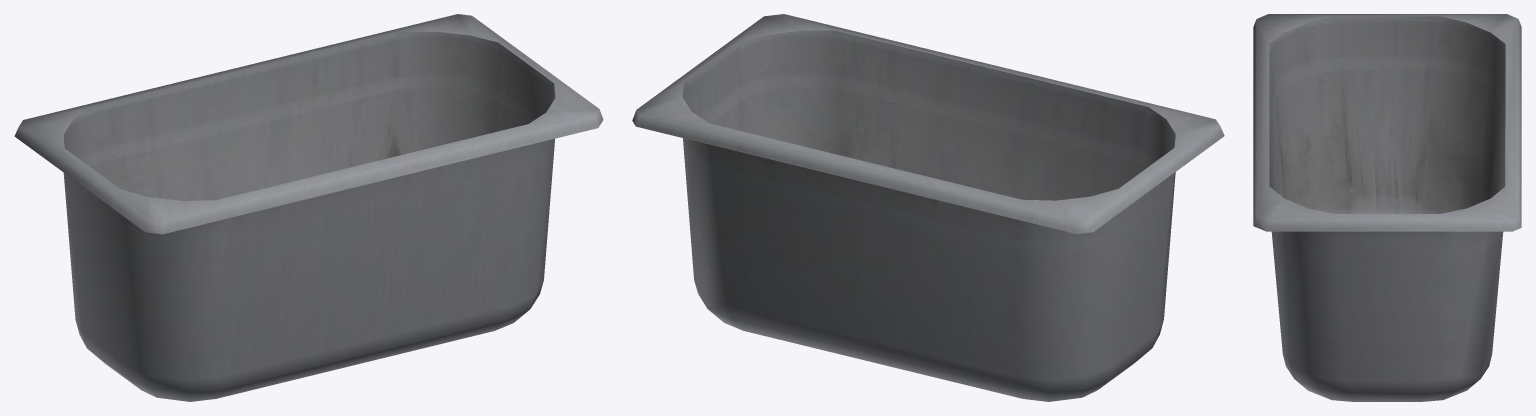
The model's file is SM_Hotel_Pan150_1_3_01.glb.
The picture shows the model from 3 angles, left to right: view 1: azimuth 30°, elevation 25°; view 2: azimuth 150°, elevation 25°; view 3: azimuth 270°, elevation 25°; orthographic projection. The views are drawn at different scales.
Parts seen in each view (by area): view 1: SM_Hotel_Pan150_1_3_01; view 2: SM_Hotel_Pan150_1_3_01; view 3: SM_Hotel_Pan150_1_3_01.
Part boxes in pixels (x1,y1,x2,y2): SM_Hotel_Pan150_1_3_01: (14,14,603,401); SM_Hotel_Pan150_1_3_01: (632,14,1224,401); SM_Hotel_Pan150_1_3_01: (1253,14,1521,401).
Bounding box in the file's own units: 0.325 × 0.1492 × 0.176.
1 material, 1 textured.
